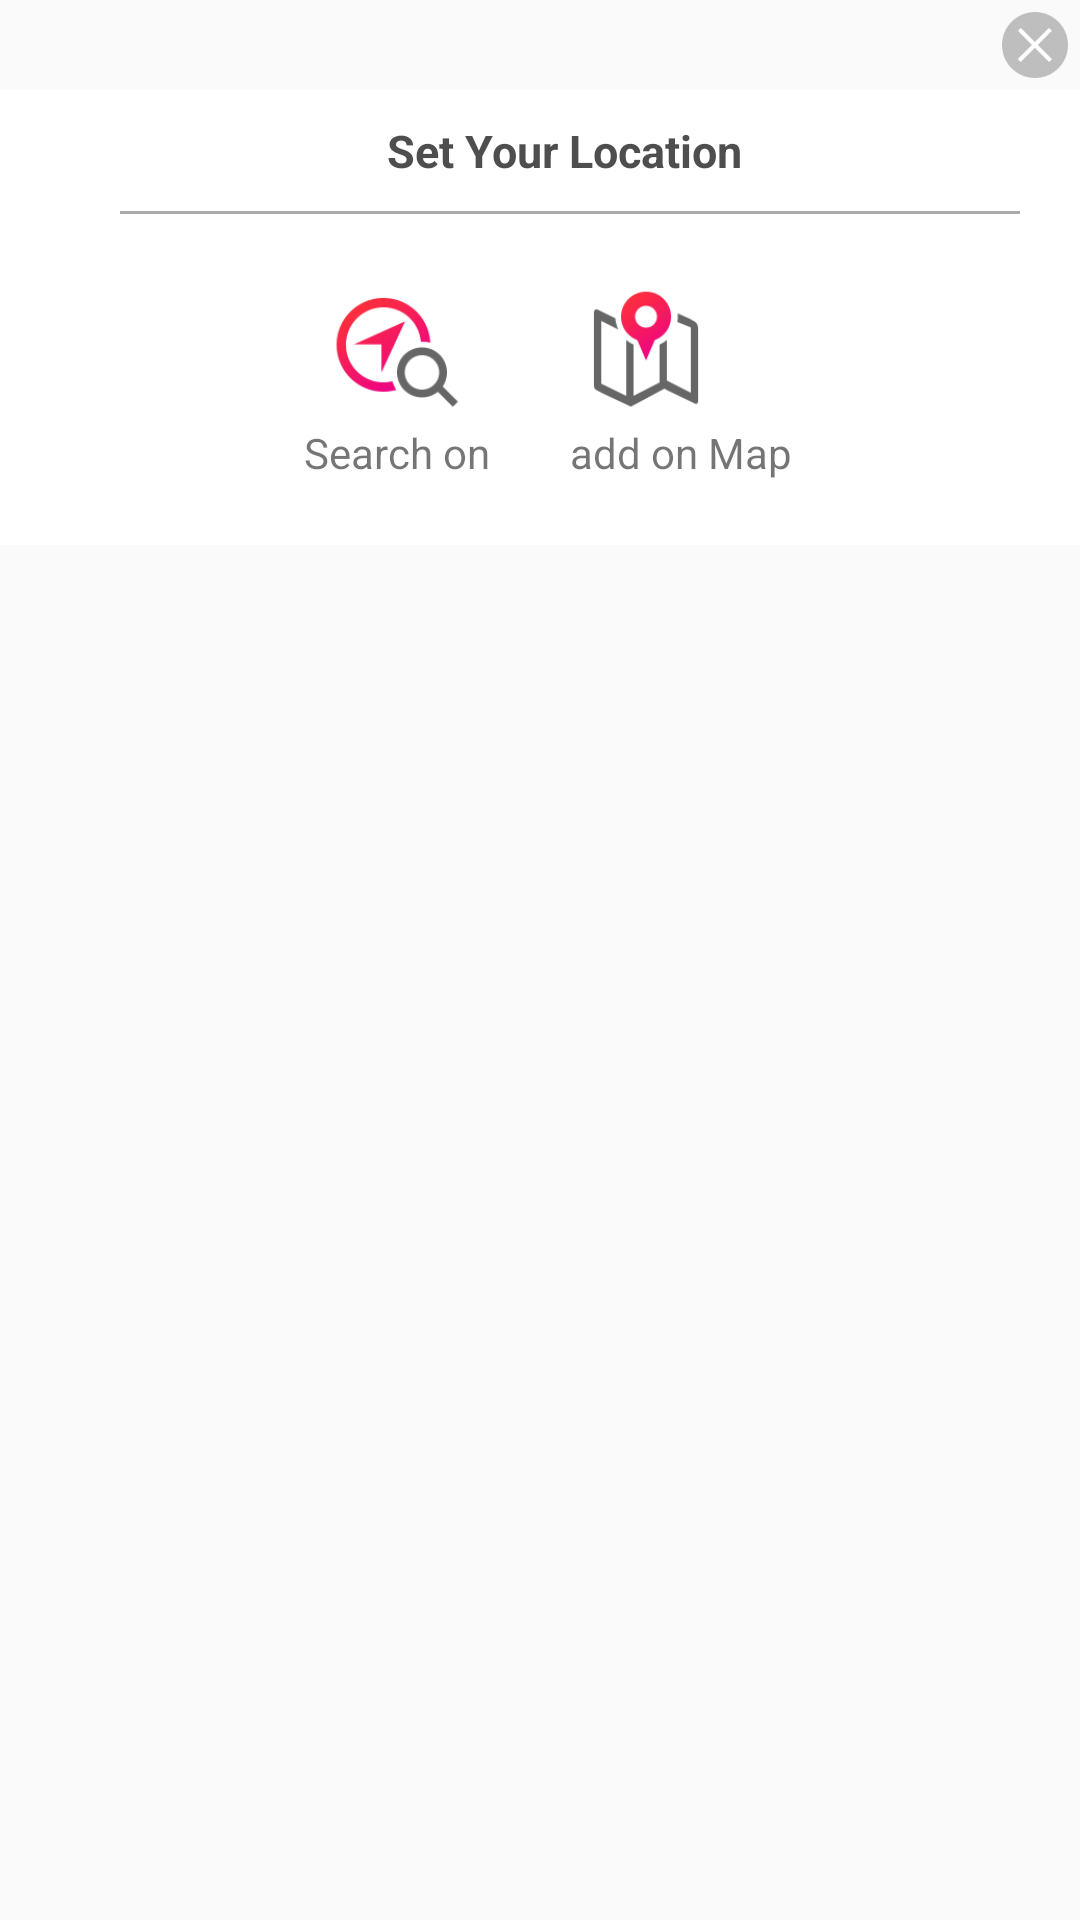

Icons on this 1080×1920 Android screen, each with its box as [x1=x1, y1=y1, x2=x2, y2=y2]:
address around: [x1=336, y1=298, x2=458, y2=407]
address map: [x1=594, y1=291, x2=698, y2=407]
event close: [x1=1002, y1=12, x2=1068, y2=78]
